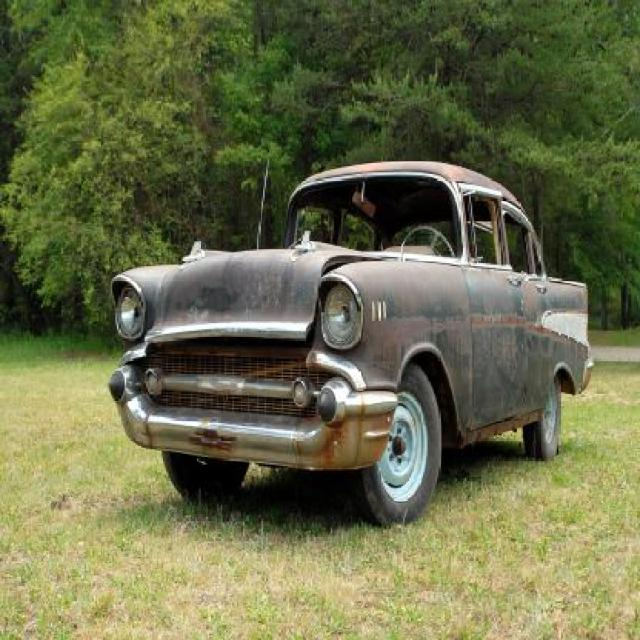corrosion: (113, 160, 599, 515)
